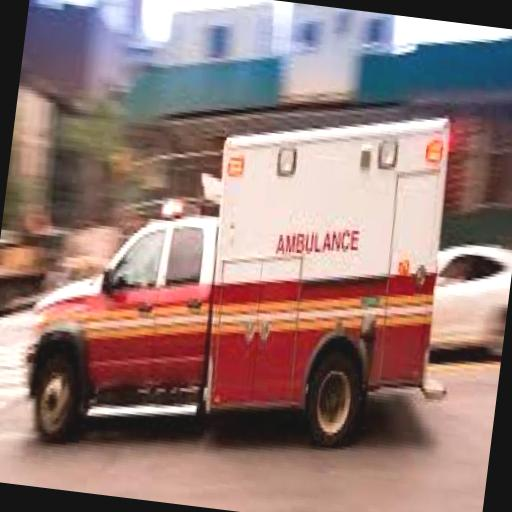Police car: (16, 68, 456, 471)
